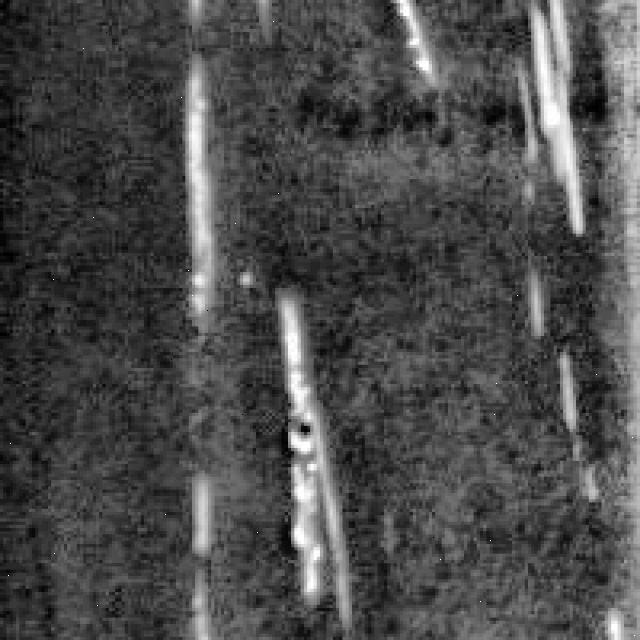Inclusion: (278, 288, 362, 605), (535, 0, 599, 230), (186, 55, 230, 308), (188, 474, 228, 630), (397, 0, 448, 80)
